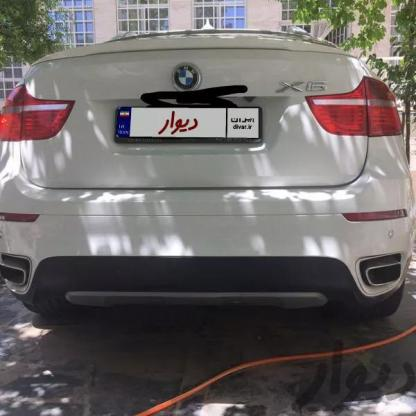Car: (0, 0, 415, 335)
